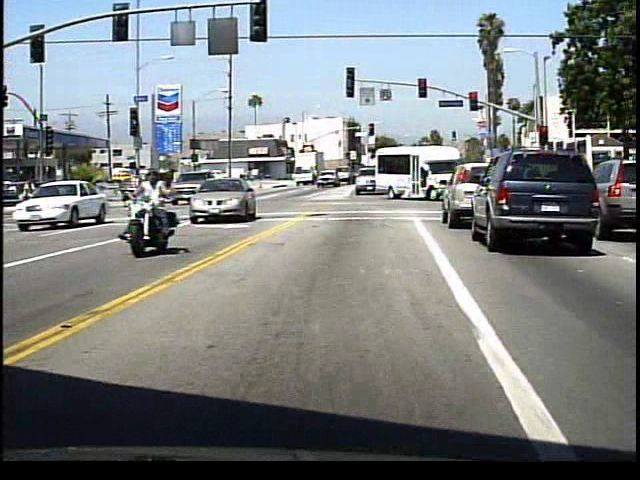person: (131, 165, 184, 257)
